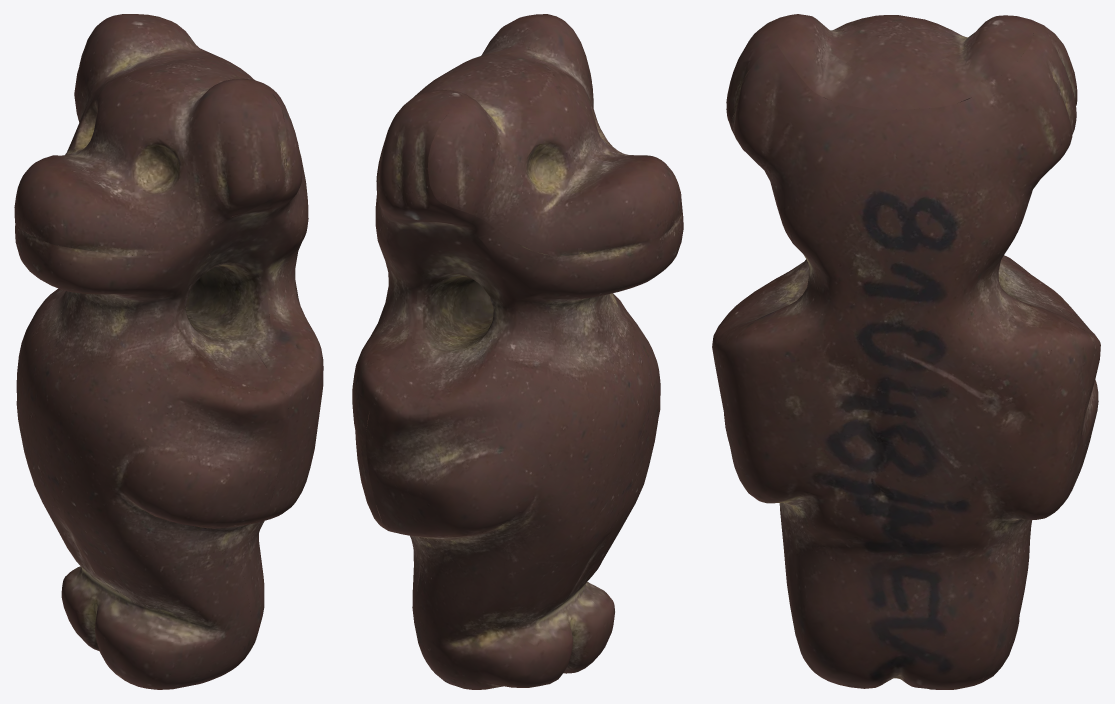
File: tairona_culture_anthropomorphic_pendant.lod2.glb
3 renders of one model, left to right at view 1: azimuth 30°, elevation 25°; view 2: azimuth 150°, elevation 25°; view 3: azimuth 270°, elevation 25°, orthographic. The views are drawn at different scales.
Visible parts, largest first — view 1: Object_4, Object_2, Object_3, Object_5; view 2: Object_4, Object_2, Object_3, Object_5; view 3: Object_3, Object_2, Object_4, Object_5.
Part boxes in pixels (box(x1,y1,x2,y2)): Object_4: box(15, 222, 288, 689); Object_2: box(14, 14, 286, 255); Object_3: box(108, 14, 323, 662); Object_5: box(132, 254, 271, 351); Object_4: box(366, 212, 683, 689); Object_2: box(404, 14, 682, 255); Object_3: box(352, 105, 508, 639); Object_5: box(409, 244, 570, 362); Object_3: box(712, 21, 1093, 689); Object_2: box(726, 14, 1076, 125); Object_4: box(712, 97, 1100, 685); Object_5: box(784, 267, 1026, 306).
Bounding box in the file's own units: 0.1536 × 0.3429 × 0.1807.
Materials: 1 (1 with a texture image).
